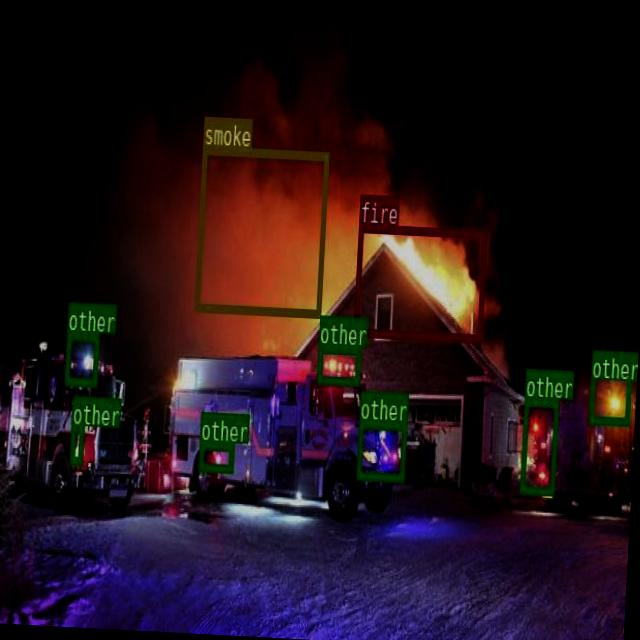fire: (352, 222, 487, 342)
smoke: (194, 146, 328, 316)
